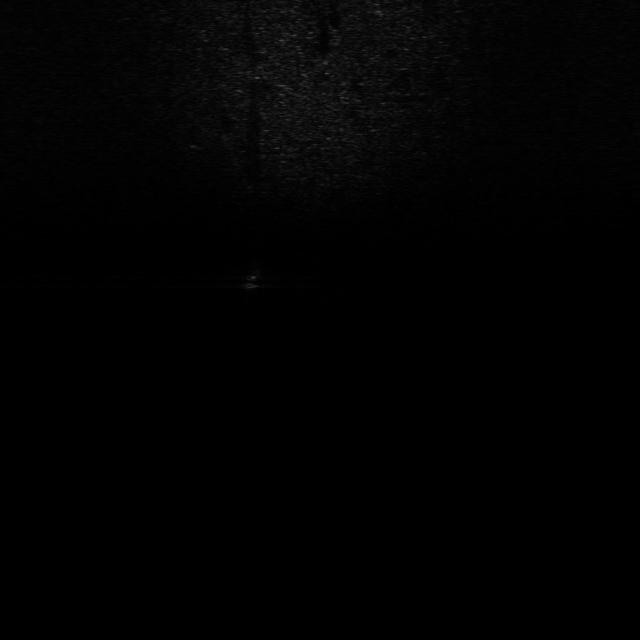human body: (234, 253, 272, 308)
